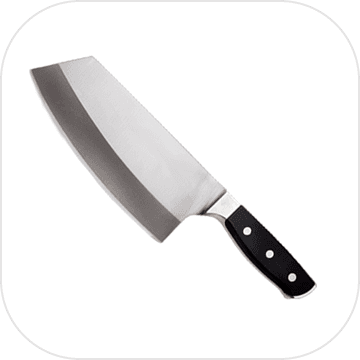knief: (30, 58, 320, 302)
